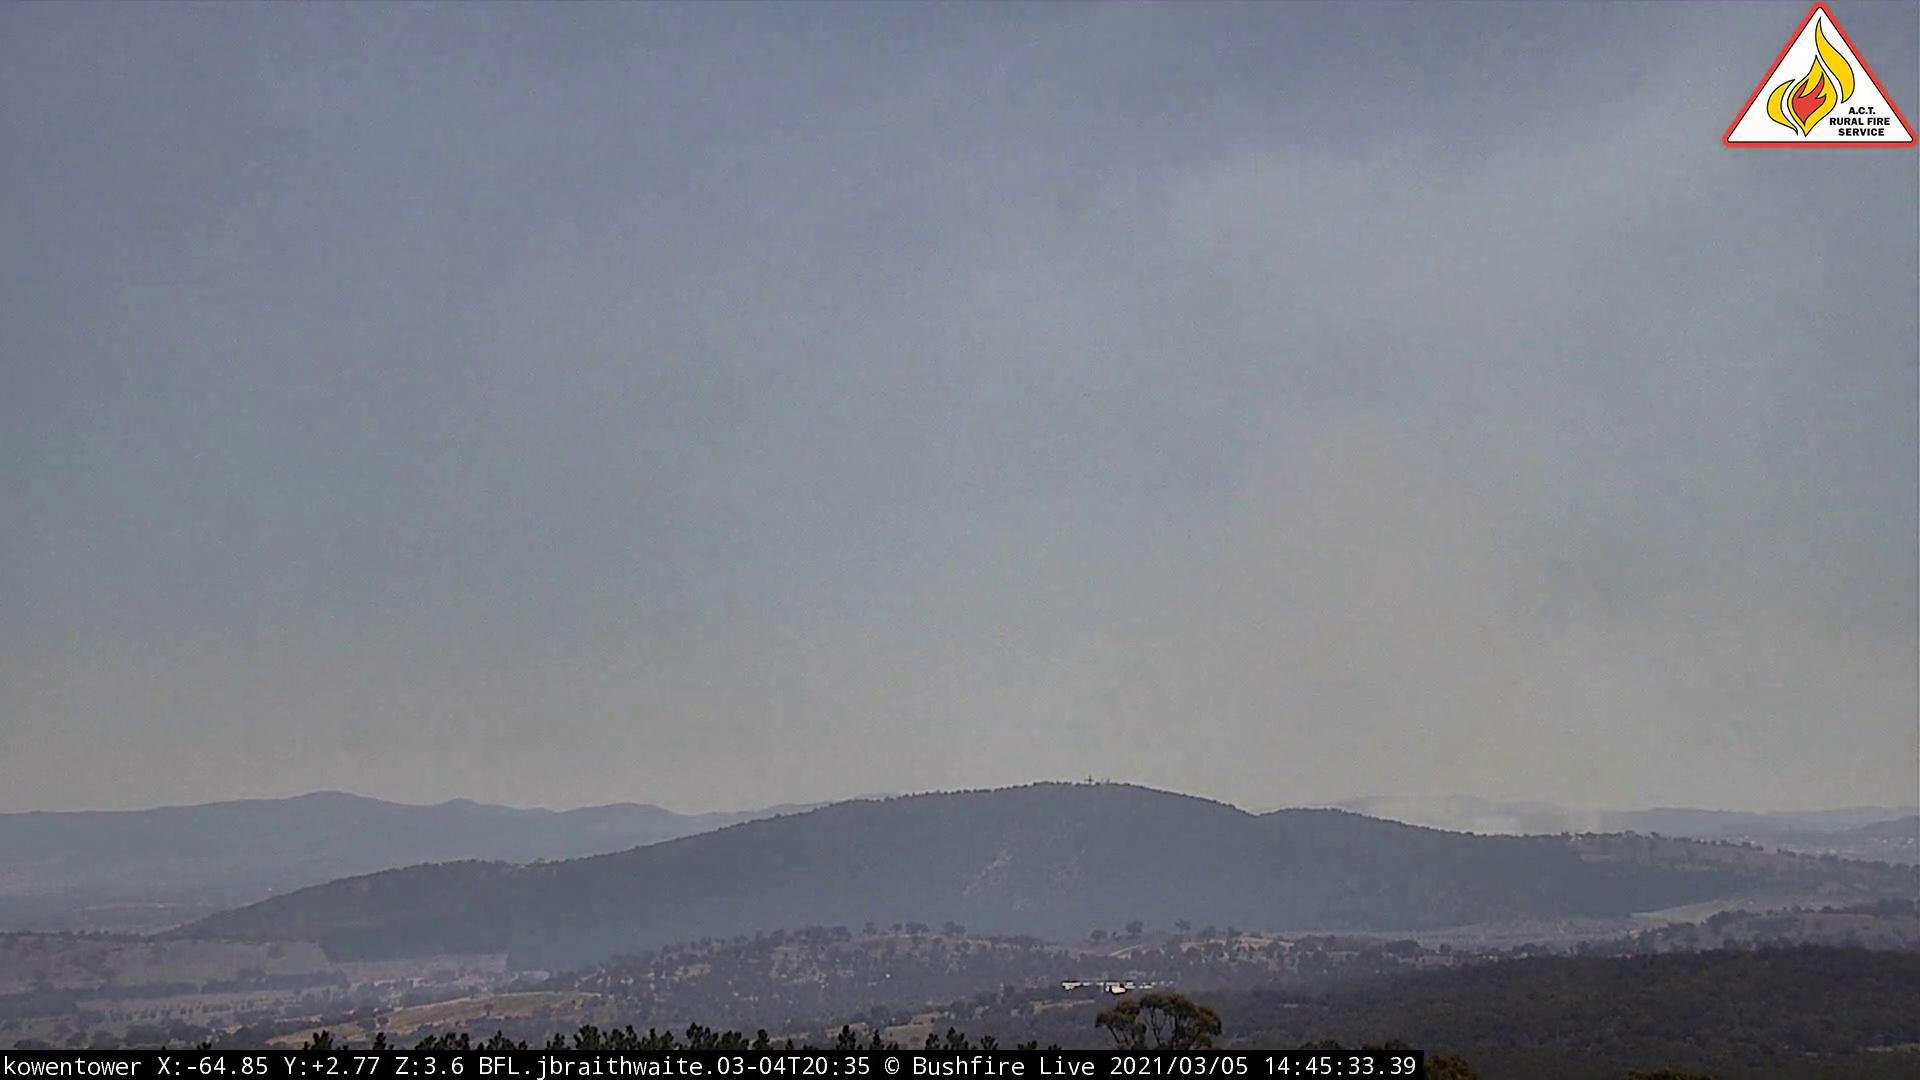instance_salient_object: (1127, 433, 1633, 843)
